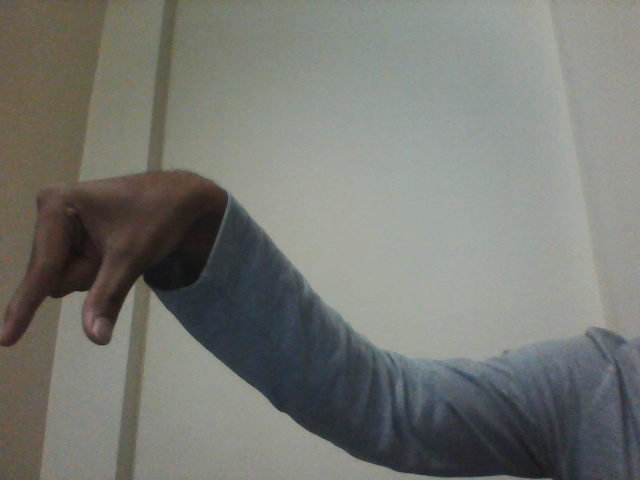q: (3, 150, 208, 360)
